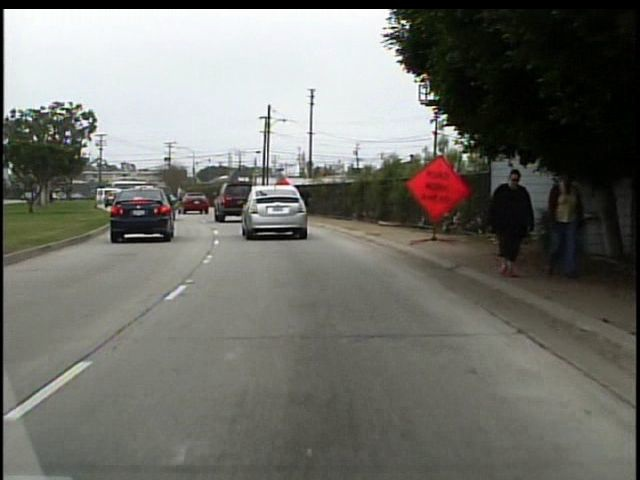person: (476, 166, 535, 288), (539, 163, 590, 286)
